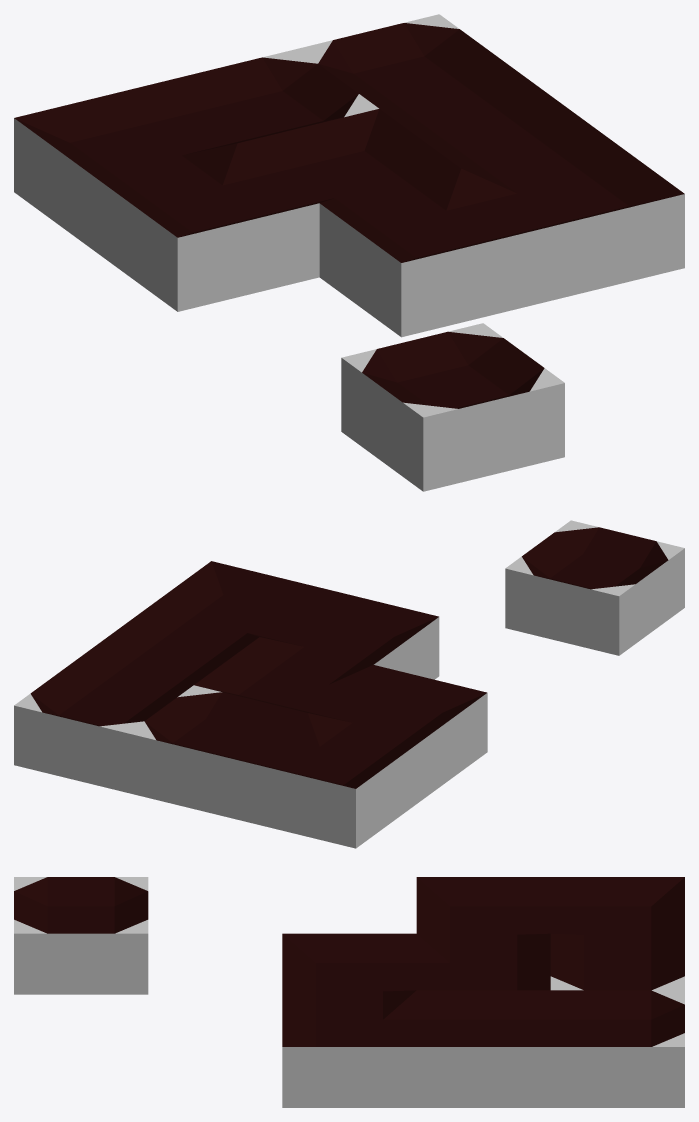
Rendered from 19s_path.obj.
3 renders of one model, top to bottom at view 1: azimuth 30°, elevation 25°; view 2: azimuth 150°, elevation 25°; view 3: azimuth 270°, elevation 25°, orthographic. The views are drawn at different scales.
Parts seen in each view (by area): view 1: hole.0.0_Cube.038, corner.1.2_corner.186, corner.0.3_corner.184, corner.2.2_corner.188, corner.0.4_corner.185, corner.1.3_corner.187, ending.2.4_ending.074, ending.1.4_ending.073, through.2.3_through.036; view 2: hole.0.0_Cube.038, corner.0.4_corner.185, ending.1.4_ending.073, ending.2.4_ending.074, corner.0.3_corner.184, corner.1.2_corner.186, corner.2.2_corner.188, through.2.3_through.036, corner.1.3_corner.187; view 3: hole.0.0_Cube.038, through.2.3_through.036, ending.2.4_ending.074, corner.2.2_corner.188, corner.1.2_corner.186, corner.0.3_corner.184, corner.0.4_corner.185, corner.1.3_corner.187, ending.1.4_ending.073.
Part boxes in pixels (<box>): hole.0.0_Cube.038: <box>341,323,564,491</box>; corner.1.2_corner.186: <box>319,169,543,337</box>; corner.0.3_corner.184: <box>96,143,319,311</box>; corner.2.2_corner.188: <box>461,134,684,302</box>; corner.0.4_corner.185: <box>14,83,236,251</box>; corner.1.3_corner.187: <box>238,108,460,212</box>; ending.2.4_ending.074: <box>298,14,520,118</box>; ending.1.4_ending.073: <box>156,49,378,146</box>; through.2.3_through.036: <box>380,74,602,178</box>; hole.0.0_Cube.038: <box>505,520,684,655</box>; corner.0.4_corner.185: <box>242,713,421,848</box>; ending.1.4_ending.073: <box>128,685,307,820</box>; ending.2.4_ending.074: <box>14,657,192,792</box>; corner.0.3_corner.184: <box>308,665,487,799</box>; corner.1.2_corner.186: <box>260,589,439,679</box>; corner.2.2_corner.188: <box>146,561,324,644</box>; through.2.3_through.036: <box>80,609,258,692</box>; corner.1.3_corner.187: <box>194,637,373,715</box>; hole.0.0_Cube.038: <box>14,877,148,994</box>; through.2.3_through.036: <box>416,990,550,1107</box>; ending.2.4_ending.074: <box>550,990,684,1107</box>; corner.2.2_corner.188: <box>282,990,416,1107</box>; corner.1.2_corner.186: <box>282,933,416,1005</box>; corner.0.3_corner.184: <box>416,877,550,948</box>; corner.0.4_corner.185: <box>550,877,684,948</box>; corner.1.3_corner.187: <box>416,934,550,990</box>; ending.1.4_ending.073: <box>550,934,684,990</box>.
Bounding box in the file's own units: 6 × 1 × 10.
